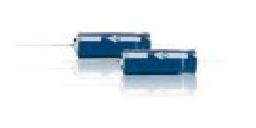Electrolytic-Capacitor: (114, 46, 207, 84)
